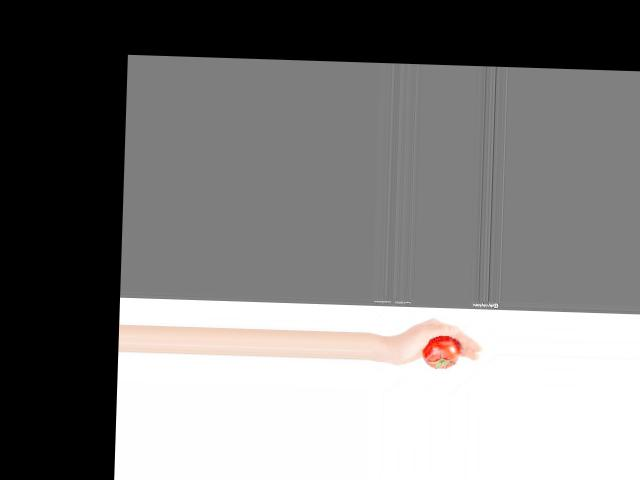tomato: (420, 335, 458, 368)
